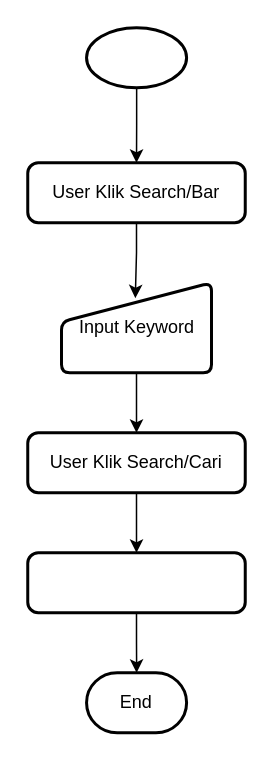
This 272x759 diagram has some shape labels left out. The centre of each missing label's shape, as x and y in pixels:
Query Ke Database-Ret.Cafe: point 136,582
Start: point 135,57
